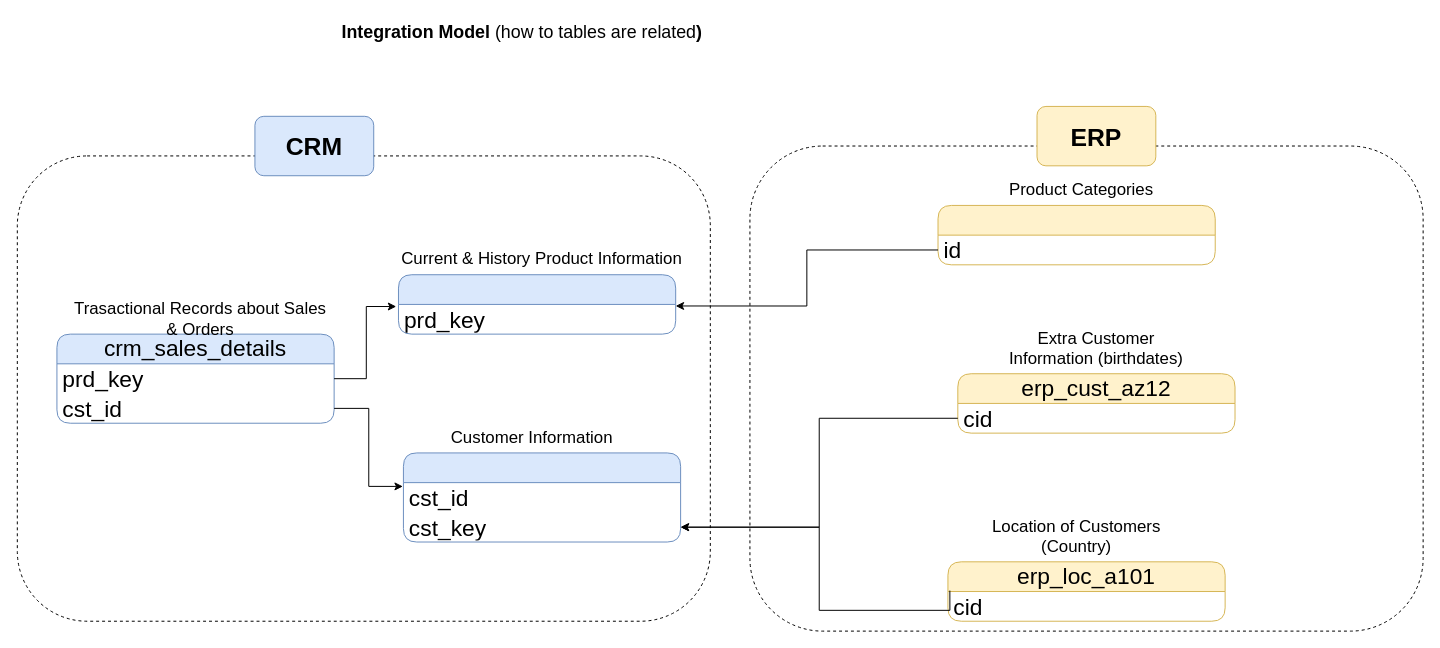
Image size: 1440x648. Some labels were removed from this diagram. The shapes that lost their labels are listed below. From the top down, each one's box as (x1, y1, x2, y2) in pixels, then its label:
(937, 204, 1215, 265): erp_px_cat_g1v2
(397, 274, 676, 334): crm_prd_info
(402, 452, 681, 542): crm_cust_info
